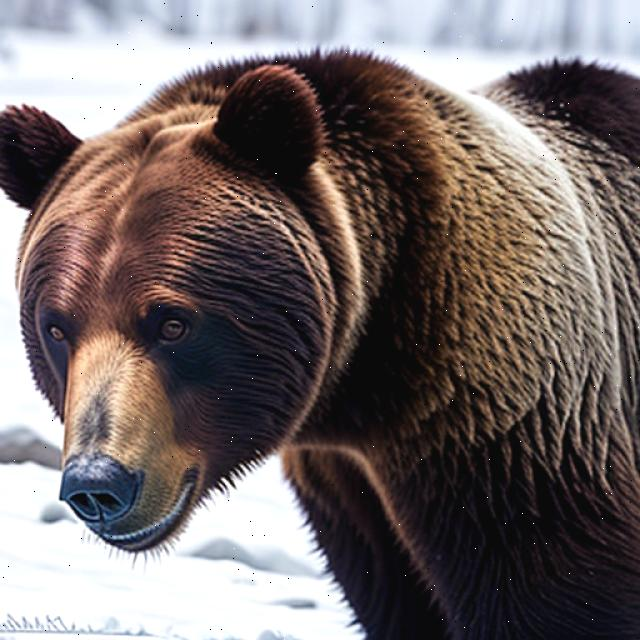bear: (0, 42, 358, 577)
